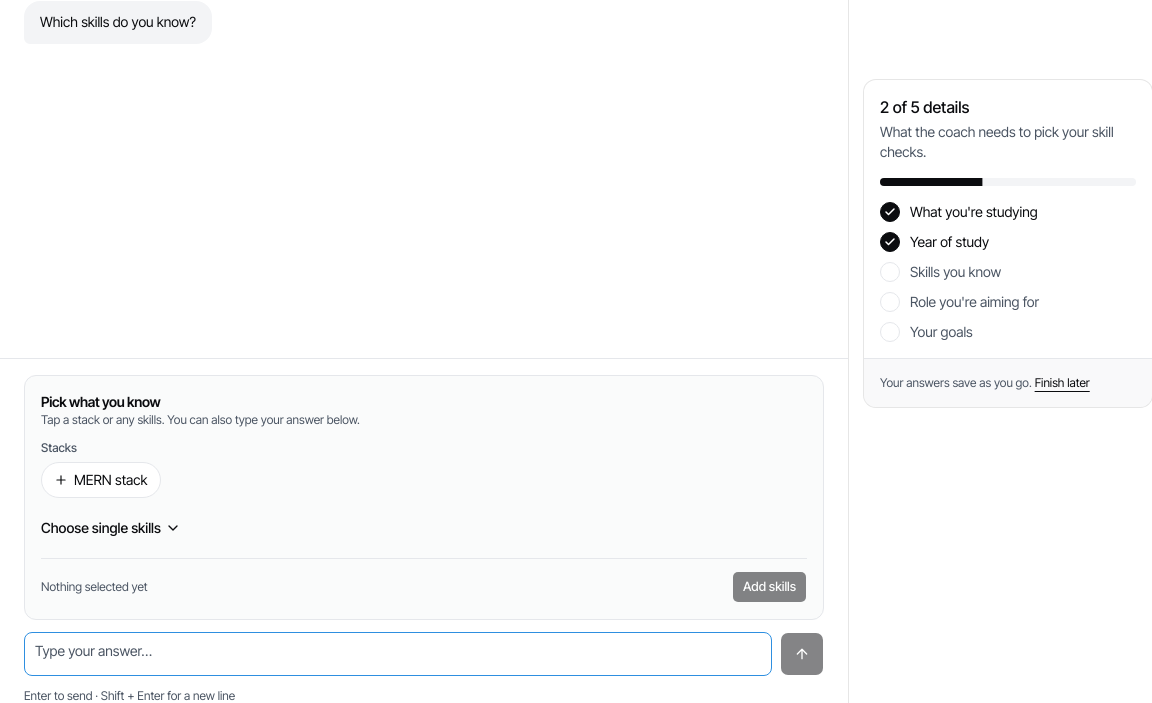
Test: OnboardingChat › offers skill chips on the skills question and sends exactly what was picked
The width and height of the screenshot is (1152, 703).
(page scrolled)
Click the button "MERN stack" at (101, 480), box [41, 462, 160, 498]
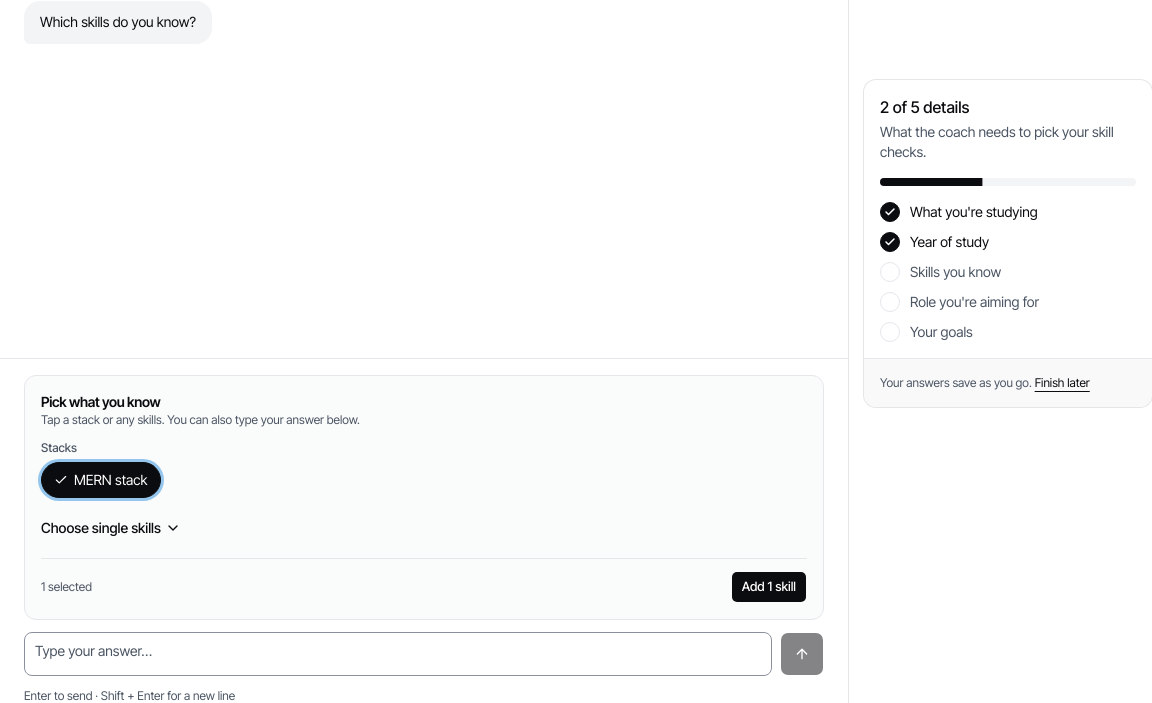
Click the button "Choose single skills" at (111, 528), box [41, 510, 181, 546]
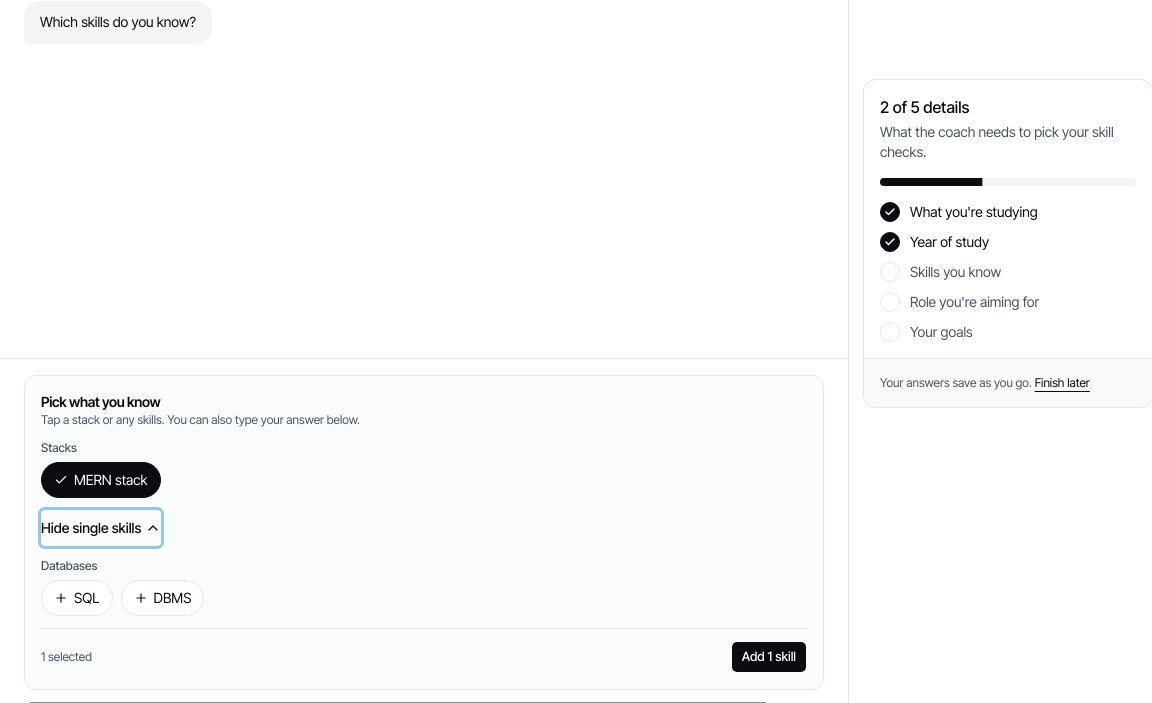
Click the button "SQL" at (77, 598), box [41, 580, 112, 616]
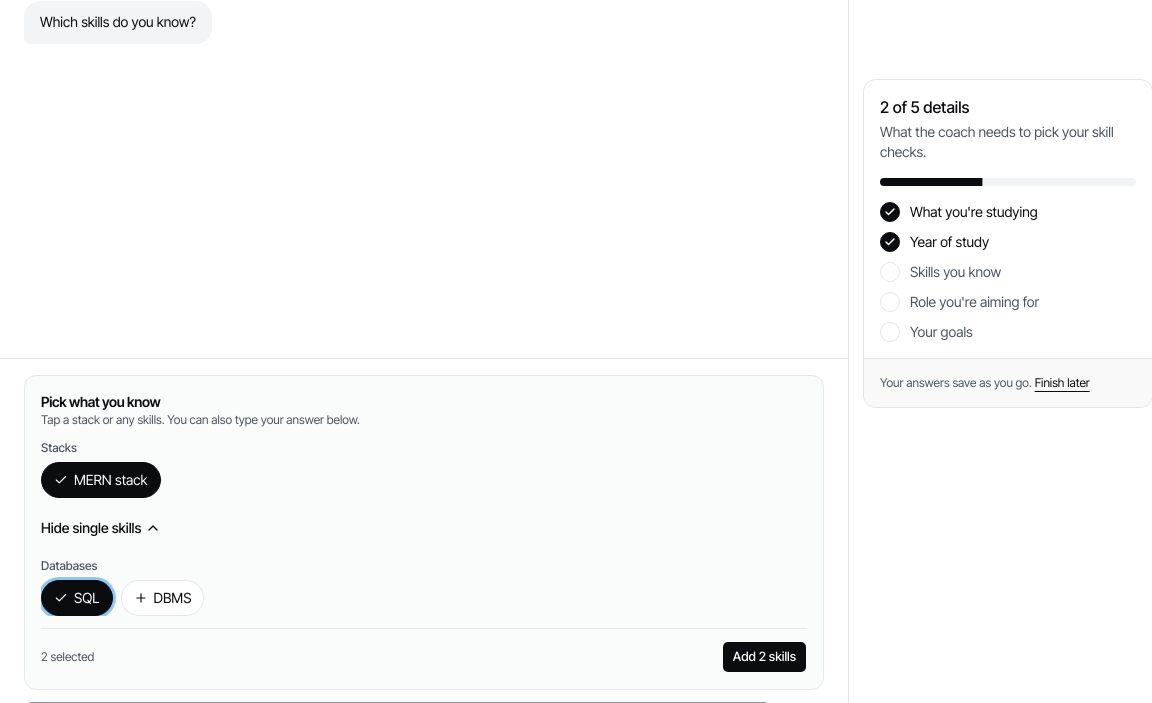
Now the button "MERN stack" is pressed, box [41, 462, 160, 498]
Click the button "Add 2 skills" at (764, 657), box [722, 641, 807, 673]
(page scrolled)
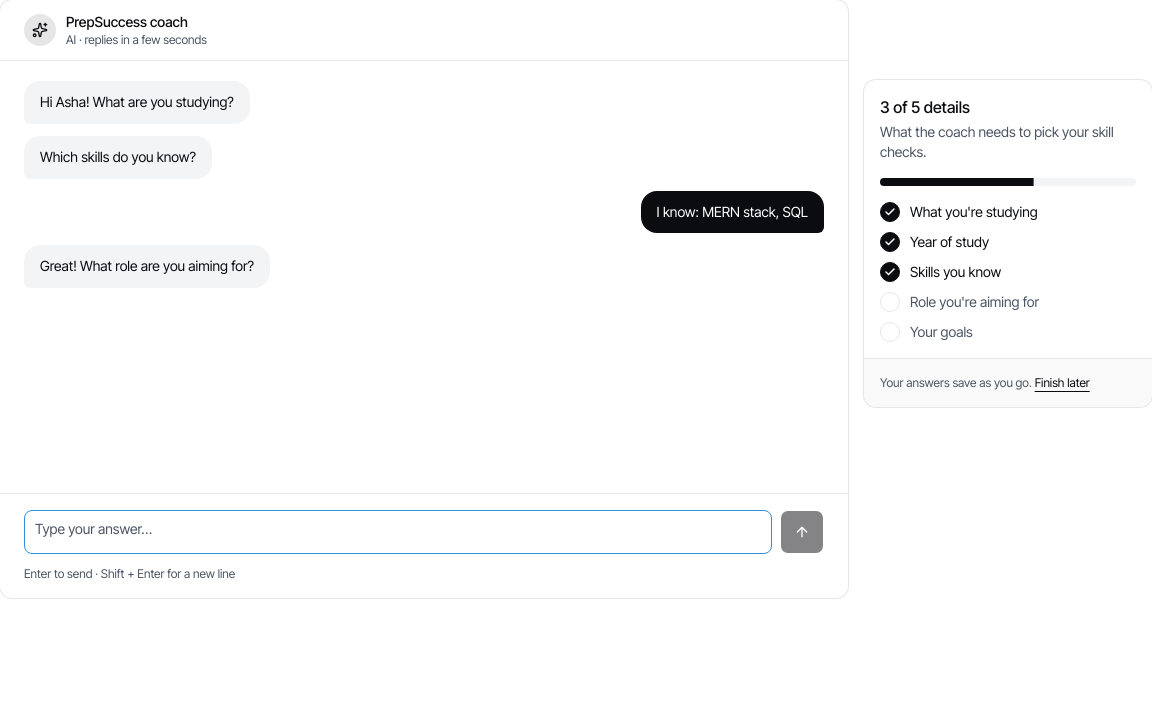
Now the text "Great! What role are you aiming for?" is shown, box [24, 245, 270, 288]
Now the heading "Pick what you know" is gone
